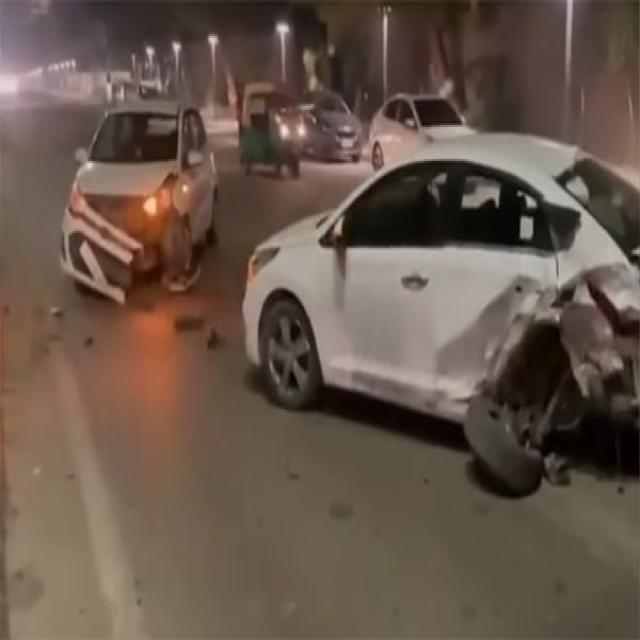accident: (242, 133, 640, 495), (61, 102, 218, 301)
